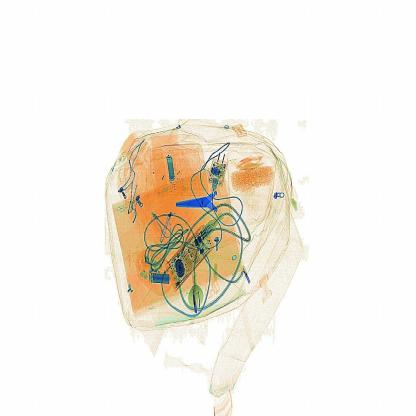gun: (173, 171, 243, 227)
